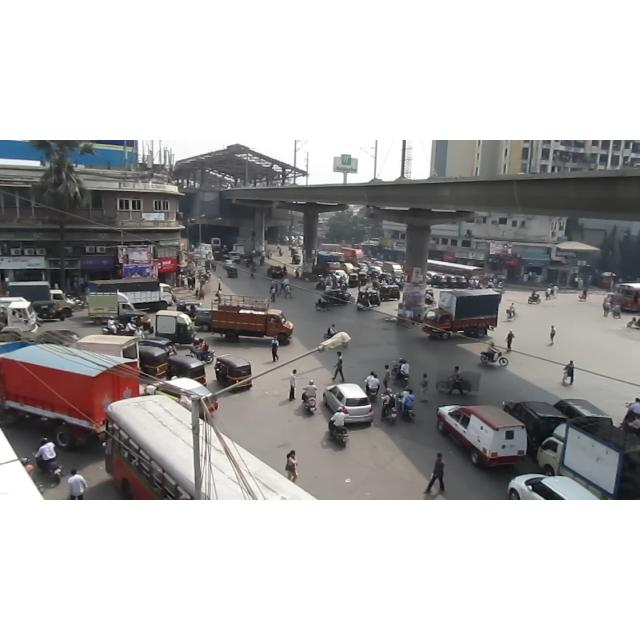auto: (211, 352, 255, 396), (165, 355, 211, 395), (139, 344, 173, 382), (32, 299, 68, 323), (227, 265, 240, 282)
car: (504, 395, 570, 449), (507, 474, 597, 500), (323, 383, 373, 423), (137, 336, 175, 354), (268, 265, 284, 279)
